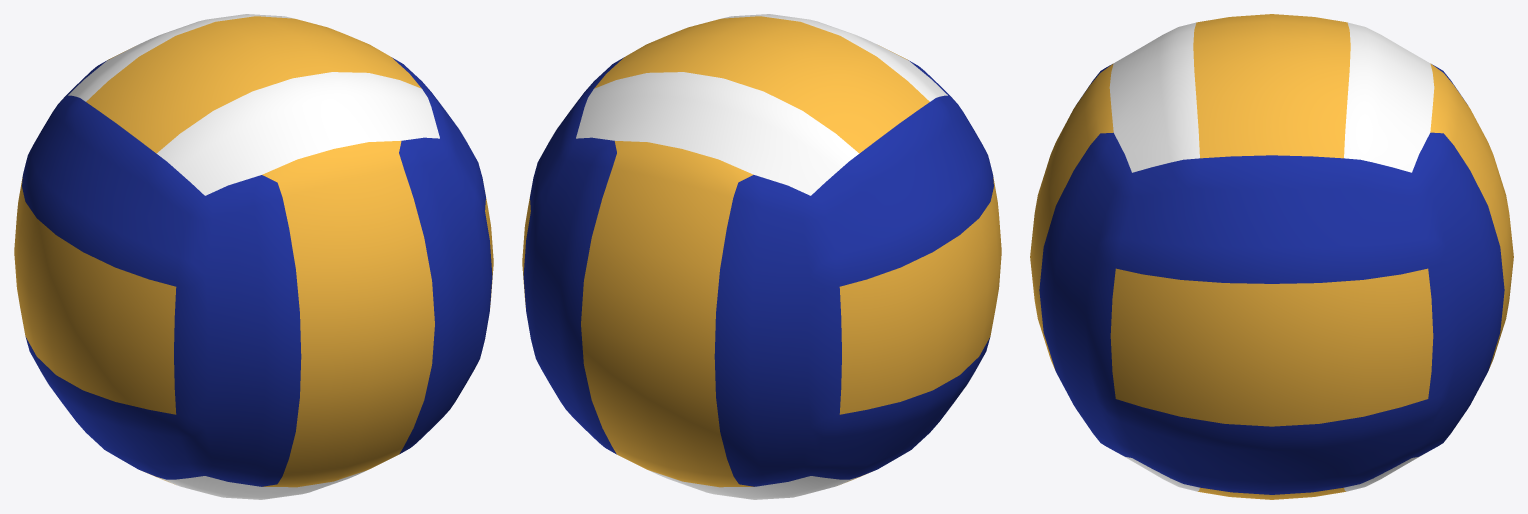
The model's file is Volleyball Ball.fbx.
3 renders of one model, left to right at view 1: azimuth 30°, elevation 25°; view 2: azimuth 150°, elevation 25°; view 3: azimuth 270°, elevation 25°, orthographic.
Visible parts, largest first — view 1: Volleyball Ball; view 2: Volleyball Ball; view 3: Volleyball Ball.
Part boxes in pixels (left/top/right/bottom): Volleyball Ball: left=14, top=14, right=493, bottom=499; Volleyball Ball: left=522, top=14, right=1001, bottom=499; Volleyball Ball: left=1030, top=14, right=1513, bottom=499.
Size of the model in its own units: 0.1727 by 0.1727 by 0.1727.
